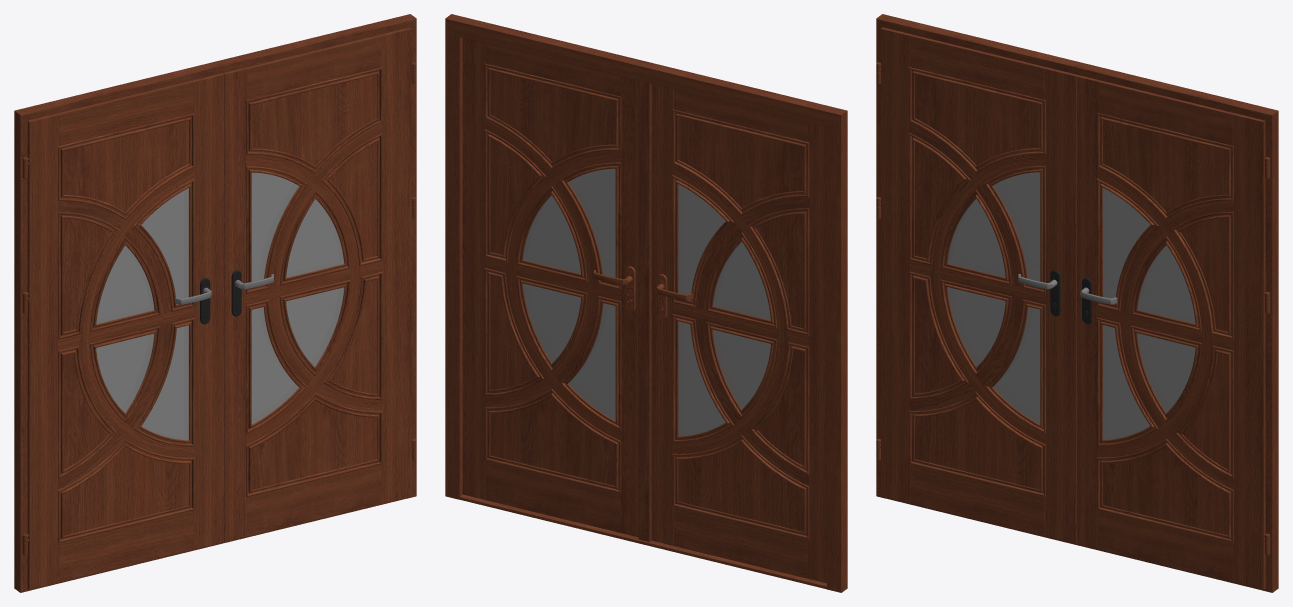
File: theDoor2.FBX
The picture shows the model from 3 angles, left to right: view 1: azimuth 30°, elevation 25°; view 2: azimuth 150°, elevation 25°; view 3: azimuth 330°, elevation 25°; orthographic projection.
Visible parts, largest first — view 1: AM109_048_01, AM109_048_02, AM109_048_00; view 2: AM109_048_02, AM109_048_01, AM109_048_00; view 3: AM109_048_01, AM109_048_02, AM109_048_00.
Boxes of the visible parts, left/top/right/bottom form: AM109_048_01: left=22, top=73, right=224, bottom=589; AM109_048_02: left=223, top=27, right=416, bottom=541; AM109_048_00: left=14, top=14, right=416, bottom=592; AM109_048_02: left=462, top=38, right=651, bottom=541; AM109_048_01: left=651, top=84, right=826, bottom=583; AM109_048_00: left=445, top=14, right=847, bottom=592; AM109_048_01: left=876, top=27, right=1077, bottom=543; AM109_048_02: left=1076, top=75, right=1270, bottom=589; AM109_048_00: left=876, top=14, right=1278, bottom=592.
Bounding box in the file's own units: 178 × 206 × 16.12.
4 materials, 1 textured.
